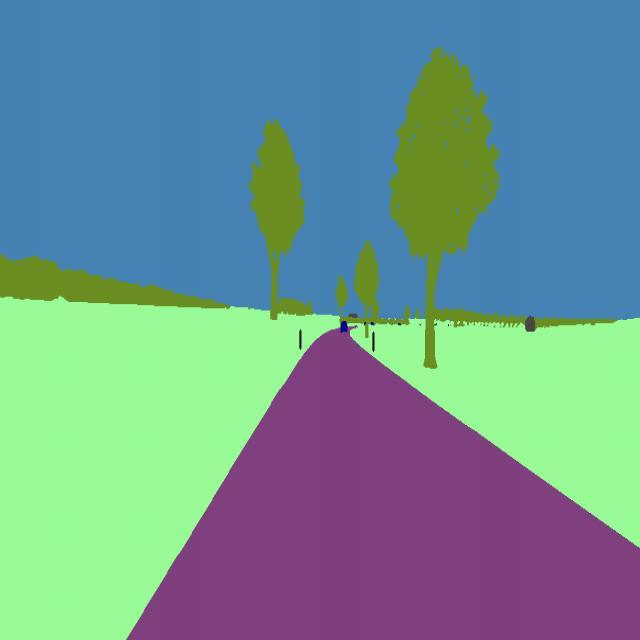safe: (338, 316, 350, 337)
